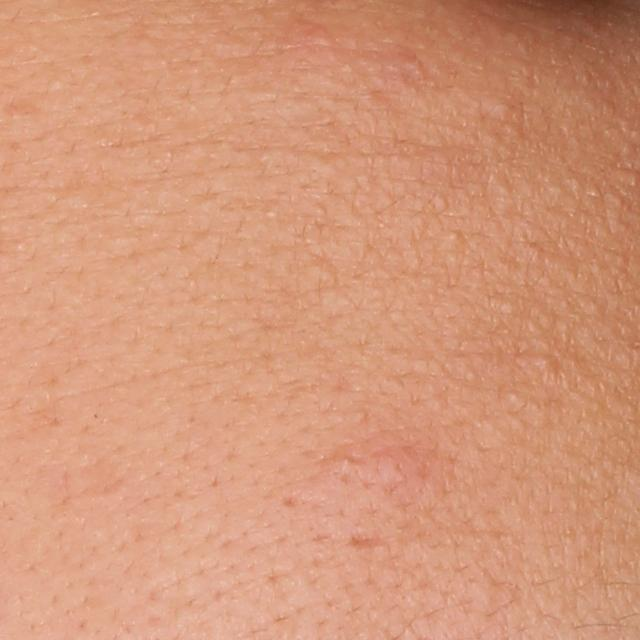atrophic_scar: (338, 526, 390, 555)
comedo: (372, 443, 419, 489), (480, 91, 518, 123), (528, 351, 561, 376), (446, 226, 464, 245)
